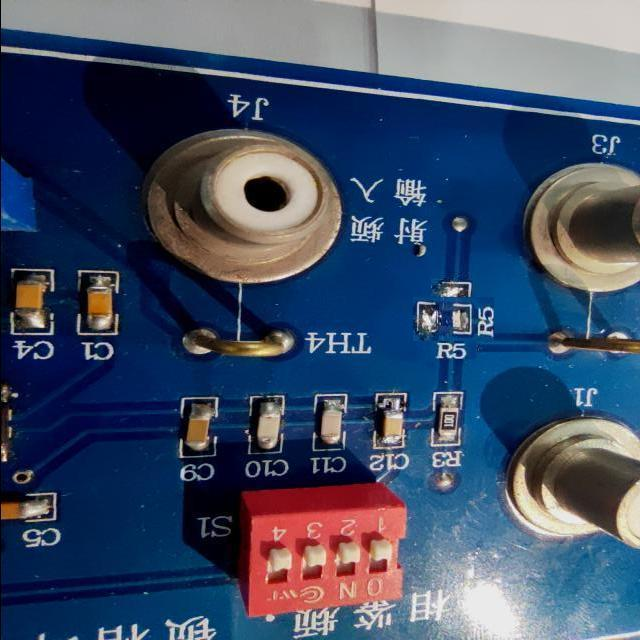miss_welding: (422, 287, 485, 350)
